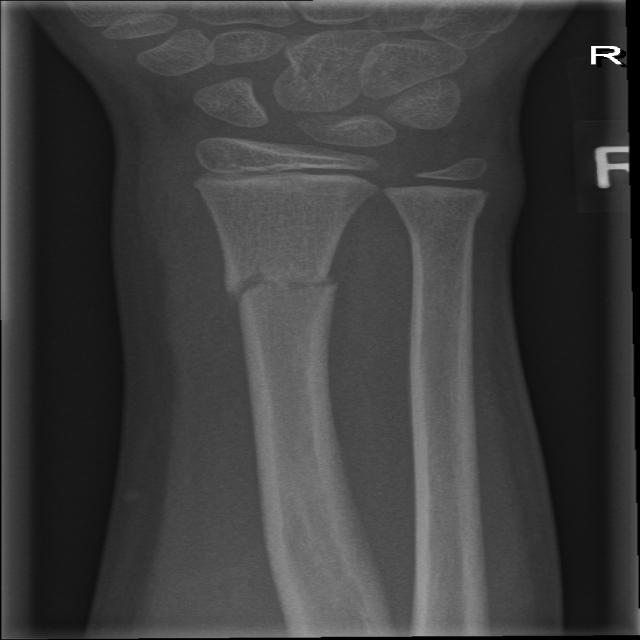radius fracture: (190, 222, 364, 348)
